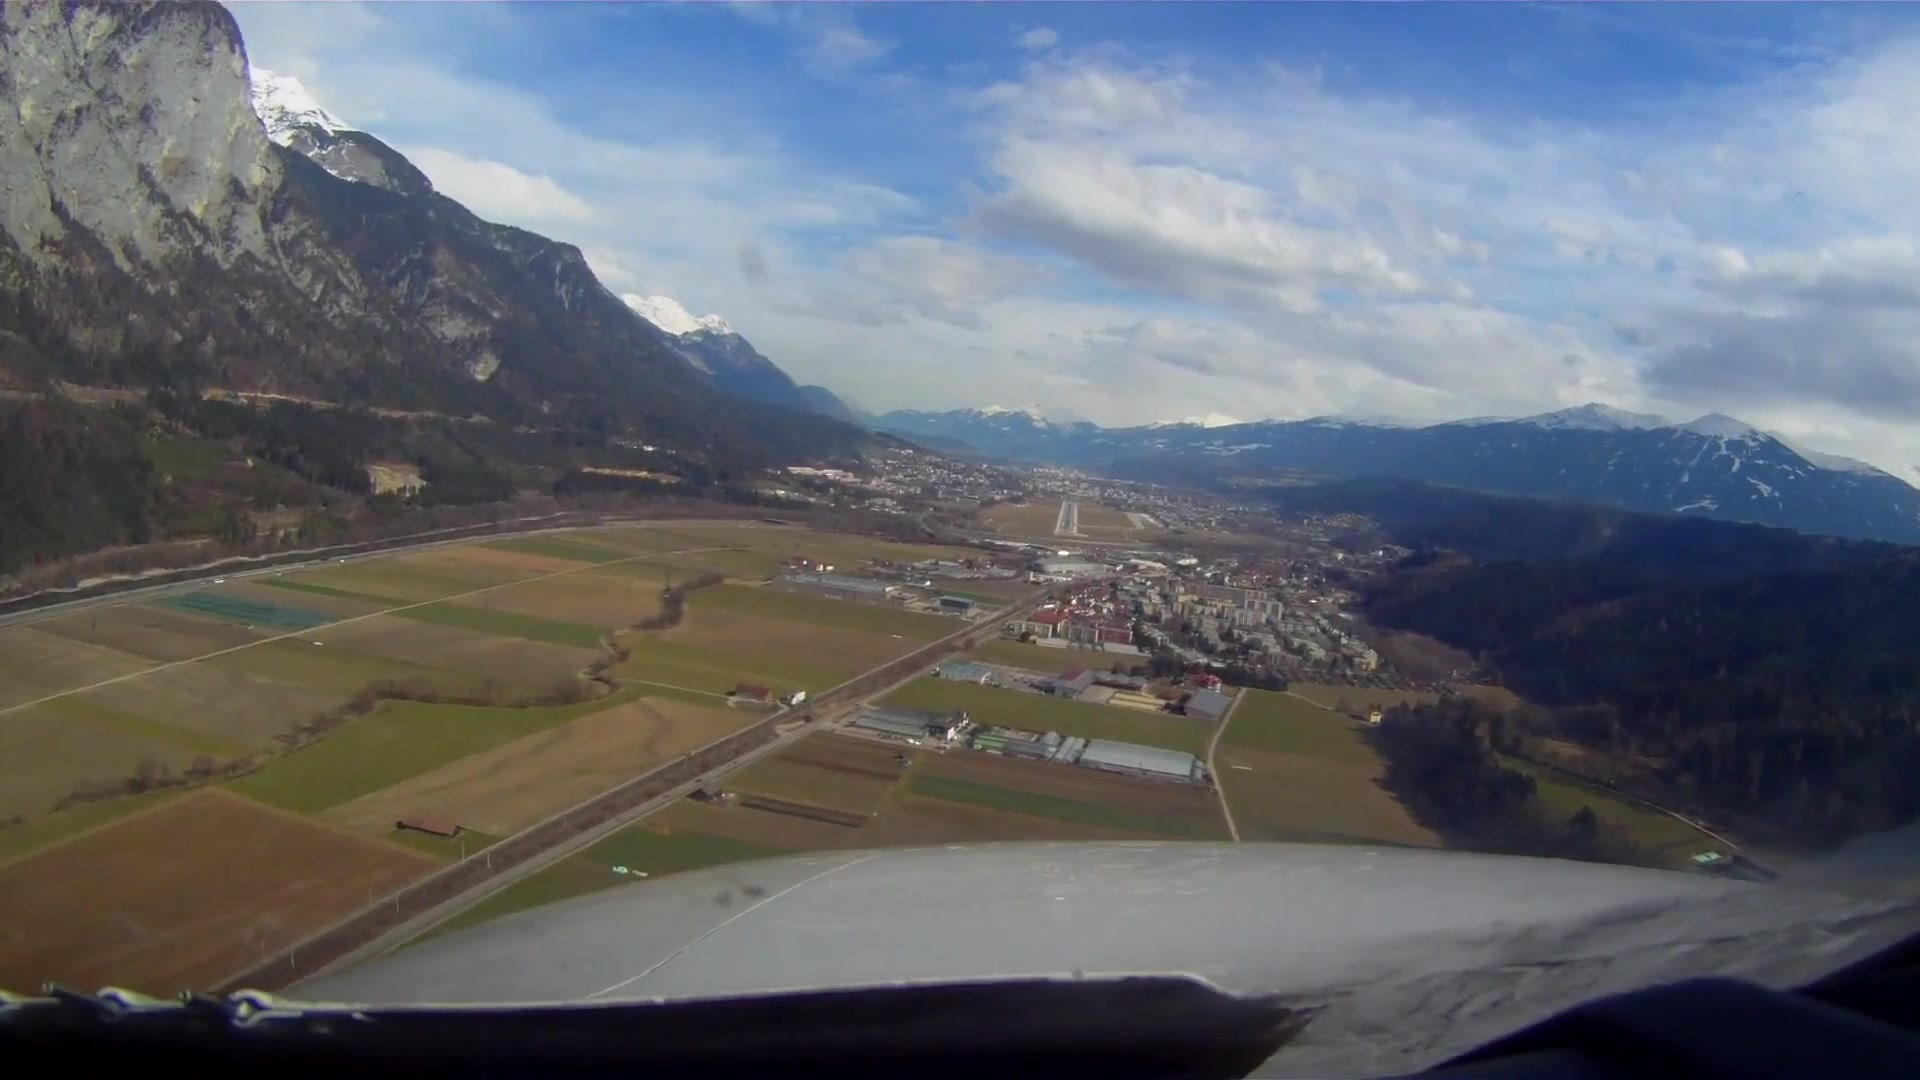runway: (1054, 501, 1079, 538)
